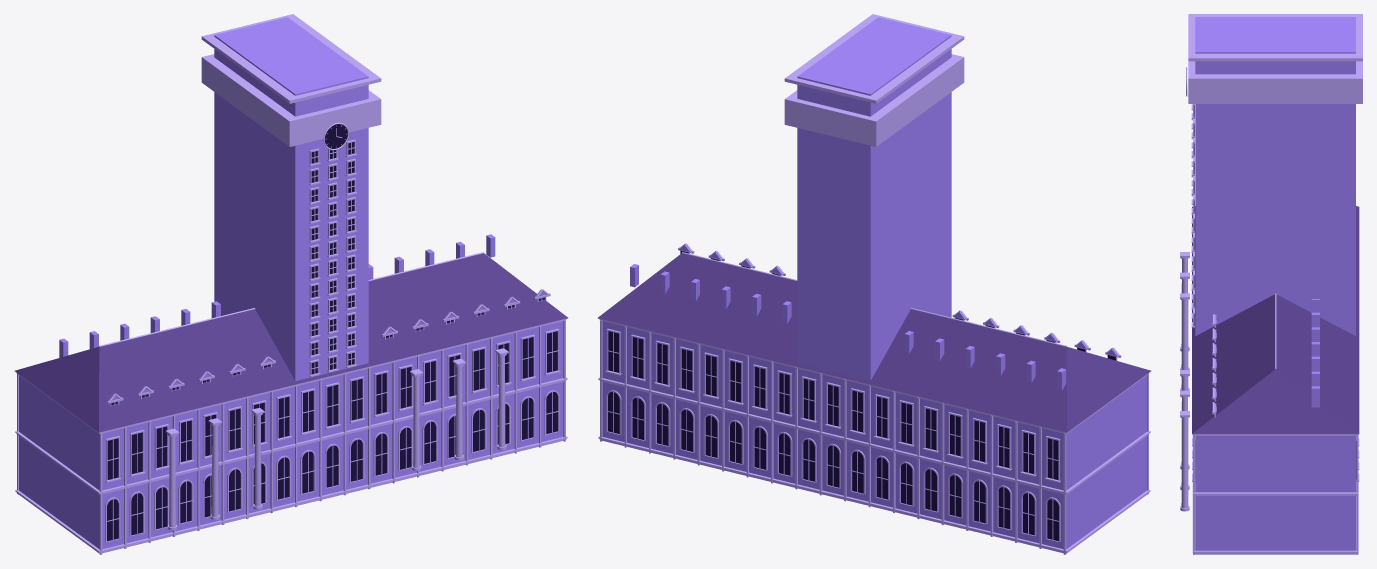
The model's file is villeurbanne_violet_light.glb.
3 views of the same model, side by side, from view 1: azimuth 30°, elevation 25°; view 2: azimuth 150°, elevation 25°; view 3: azimuth 270°, elevation 25° (orthographic).
Parts seen in each view (by area): view 1: Violet stone, Lavender carved stone, Violet slate, Recessed glazing; view 2: Violet stone, Lavender carved stone, Violet slate, Recessed glazing; view 3: Violet stone, Violet slate, Lavender carved stone.
Boxes of the visible parts, left/top/right/bottom form: Violet stone: left=19, top=17, right=563, bottom=553; Lavender carved stone: left=15, top=14, right=567, bottom=554; Violet slate: left=14, top=253, right=567, bottom=432; Recessed glazing: left=107, top=124, right=557, bottom=541; Violet stone: left=602, top=17, right=1146, bottom=553; Lavender carved stone: left=598, top=14, right=1150, bottom=554; Violet slate: left=598, top=253, right=1151, bottom=432; Recessed glazing: left=608, top=251, right=1115, bottom=541; Violet stone: left=1195, top=17, right=1355, bottom=554; Violet slate: left=1192, top=206, right=1359, bottom=433; Lavender carved stone: left=1180, top=14, right=1362, bottom=554.
Size of the model in its own units: 77.6 by 65 by 26.4.
